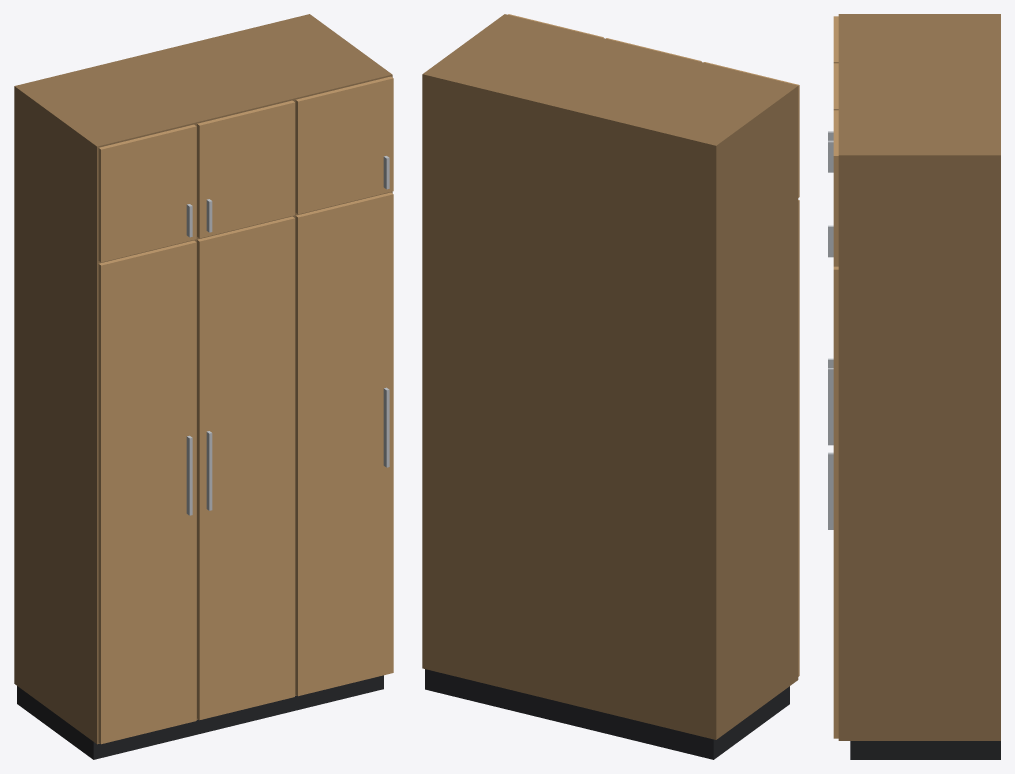
File: gardirop-1200-mese.glb
The picture shows the model from 3 angles, left to right: view 1: azimuth 30°, elevation 25°; view 2: azimuth 150°, elevation 25°; view 3: azimuth 270°, elevation 25°; orthographic projection. The views are drawn at different scales.
Parts seen in each view (by area): view 1: mobilya; view 2: mobilya; view 3: mobilya.
Boxes of the visible parts, left/top/right/bottom form: mobilya: left=14, top=14, right=393, bottom=759; mobilya: left=422, top=14, right=799, bottom=759; mobilya: left=828, top=14, right=1000, bottom=759.
Size of the model in its own units: 1.2 by 2.4 by 0.62.
